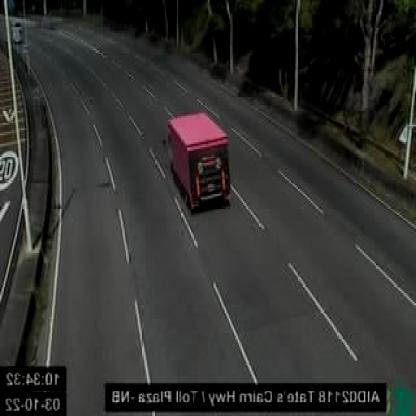Truck: (170, 112, 229, 204)
